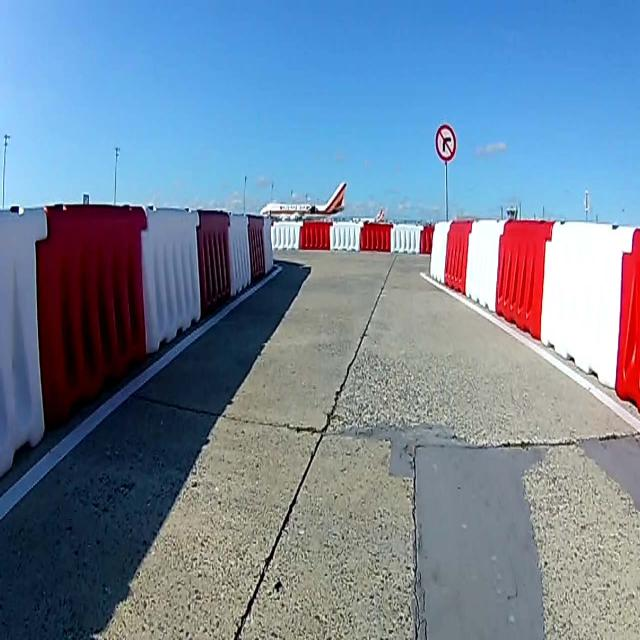sagadonulmez: (436, 124, 456, 161)
